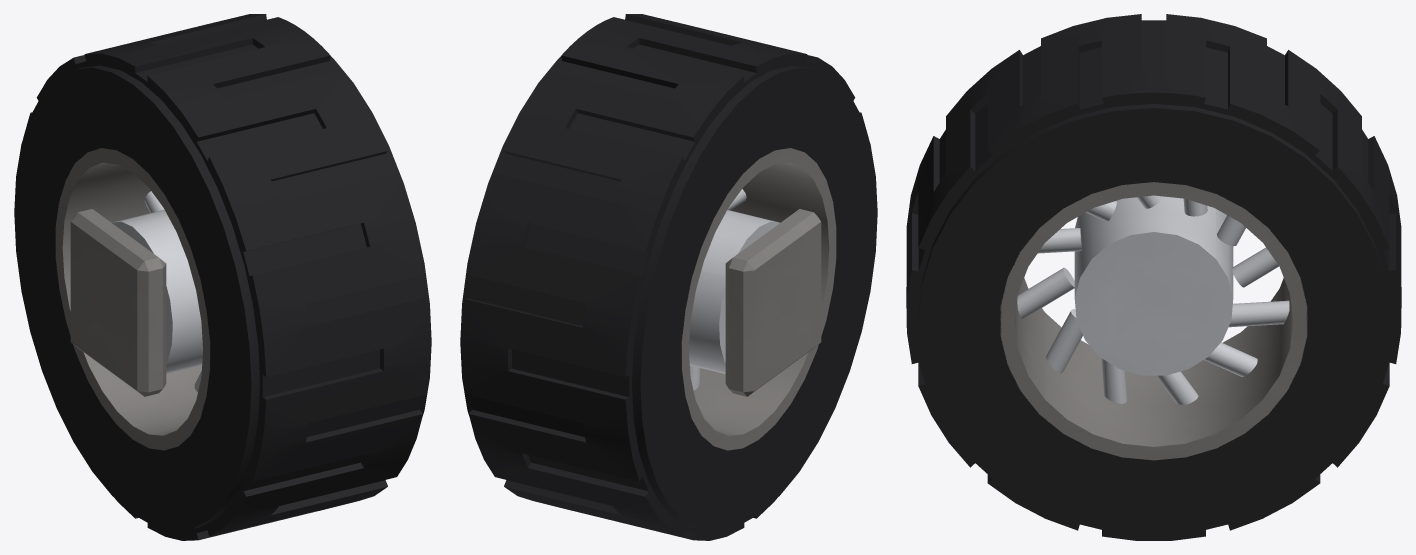
The model's file is ax_rover_17_airless_wheel_s.glb.
3 views of the same model, side by side, from view 1: azimuth 30°, elevation 25°; view 2: azimuth 150°, elevation 25°; view 3: azimuth 270°, elevation 25° (orthographic).
Visible parts, largest first — view 1: wheel_tread, wheel_rim, mount_plate, hub; view 2: wheel_tread, wheel_rim, mount_plate, hub; view 3: wheel_tread, wheel_rim, hub, wheel_flex_spokes.
Part boxes in pixels (<box>): wheel_tread: <box>14,14,431,540</box>; wheel_rim: <box>55,148,210,450</box>; mount_plate: <box>70,209,166,396</box>; hub: <box>111,210,202,373</box>; wheel_tread: <box>460,14,877,540</box>; wheel_rim: <box>681,148,836,450</box>; mount_plate: <box>725,209,821,396</box>; hub: <box>689,210,780,373</box>; wheel_tread: <box>906,14,1401,540</box>; wheel_rim: <box>1000,182,1307,460</box>; hub: <box>1074,196,1233,375</box>; wheel_flex_spokes: <box>1017,195,1289,404</box>.
Size of the model in its own units: 0.29 by 0.6 by 0.5999.
3 materials, 2 textured.
